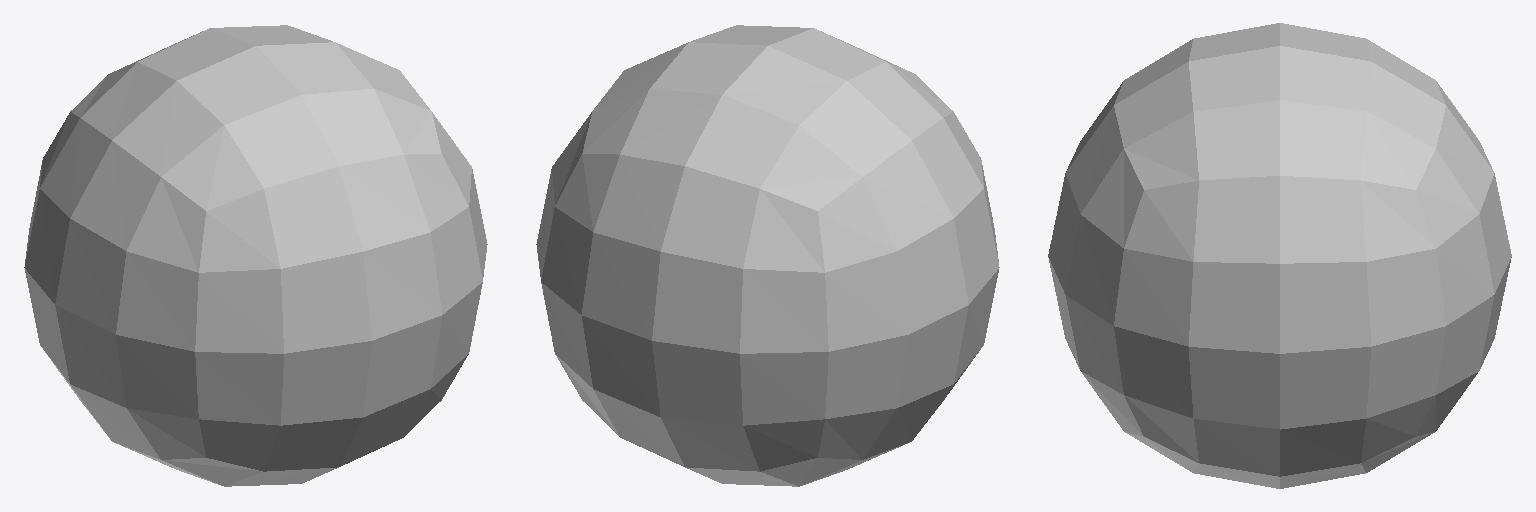
Rendered from LP_Doodie_Ball_01.obj.
The picture shows the model from 3 angles: view 1: azimuth 30°, elevation 25°; view 2: azimuth 150°, elevation 25°; view 3: azimuth 270°, elevation 25°; orthographic projection.
Parts seen in each view (by area): view 1: LP_Doodie_Ball_01_Cube.001; view 2: LP_Doodie_Ball_01_Cube.001; view 3: LP_Doodie_Ball_01_Cube.001.
Boxes of the visible parts, x1=… form: LP_Doodie_Ball_01_Cube.001: x1=24, y1=25, x2=487, y2=486; LP_Doodie_Ball_01_Cube.001: x1=536, y1=25, x2=999, y2=486; LP_Doodie_Ball_01_Cube.001: x1=1048, y1=23, x2=1511, y2=488.
Size of the model in its own units: 0.239 by 0.239 by 0.239.